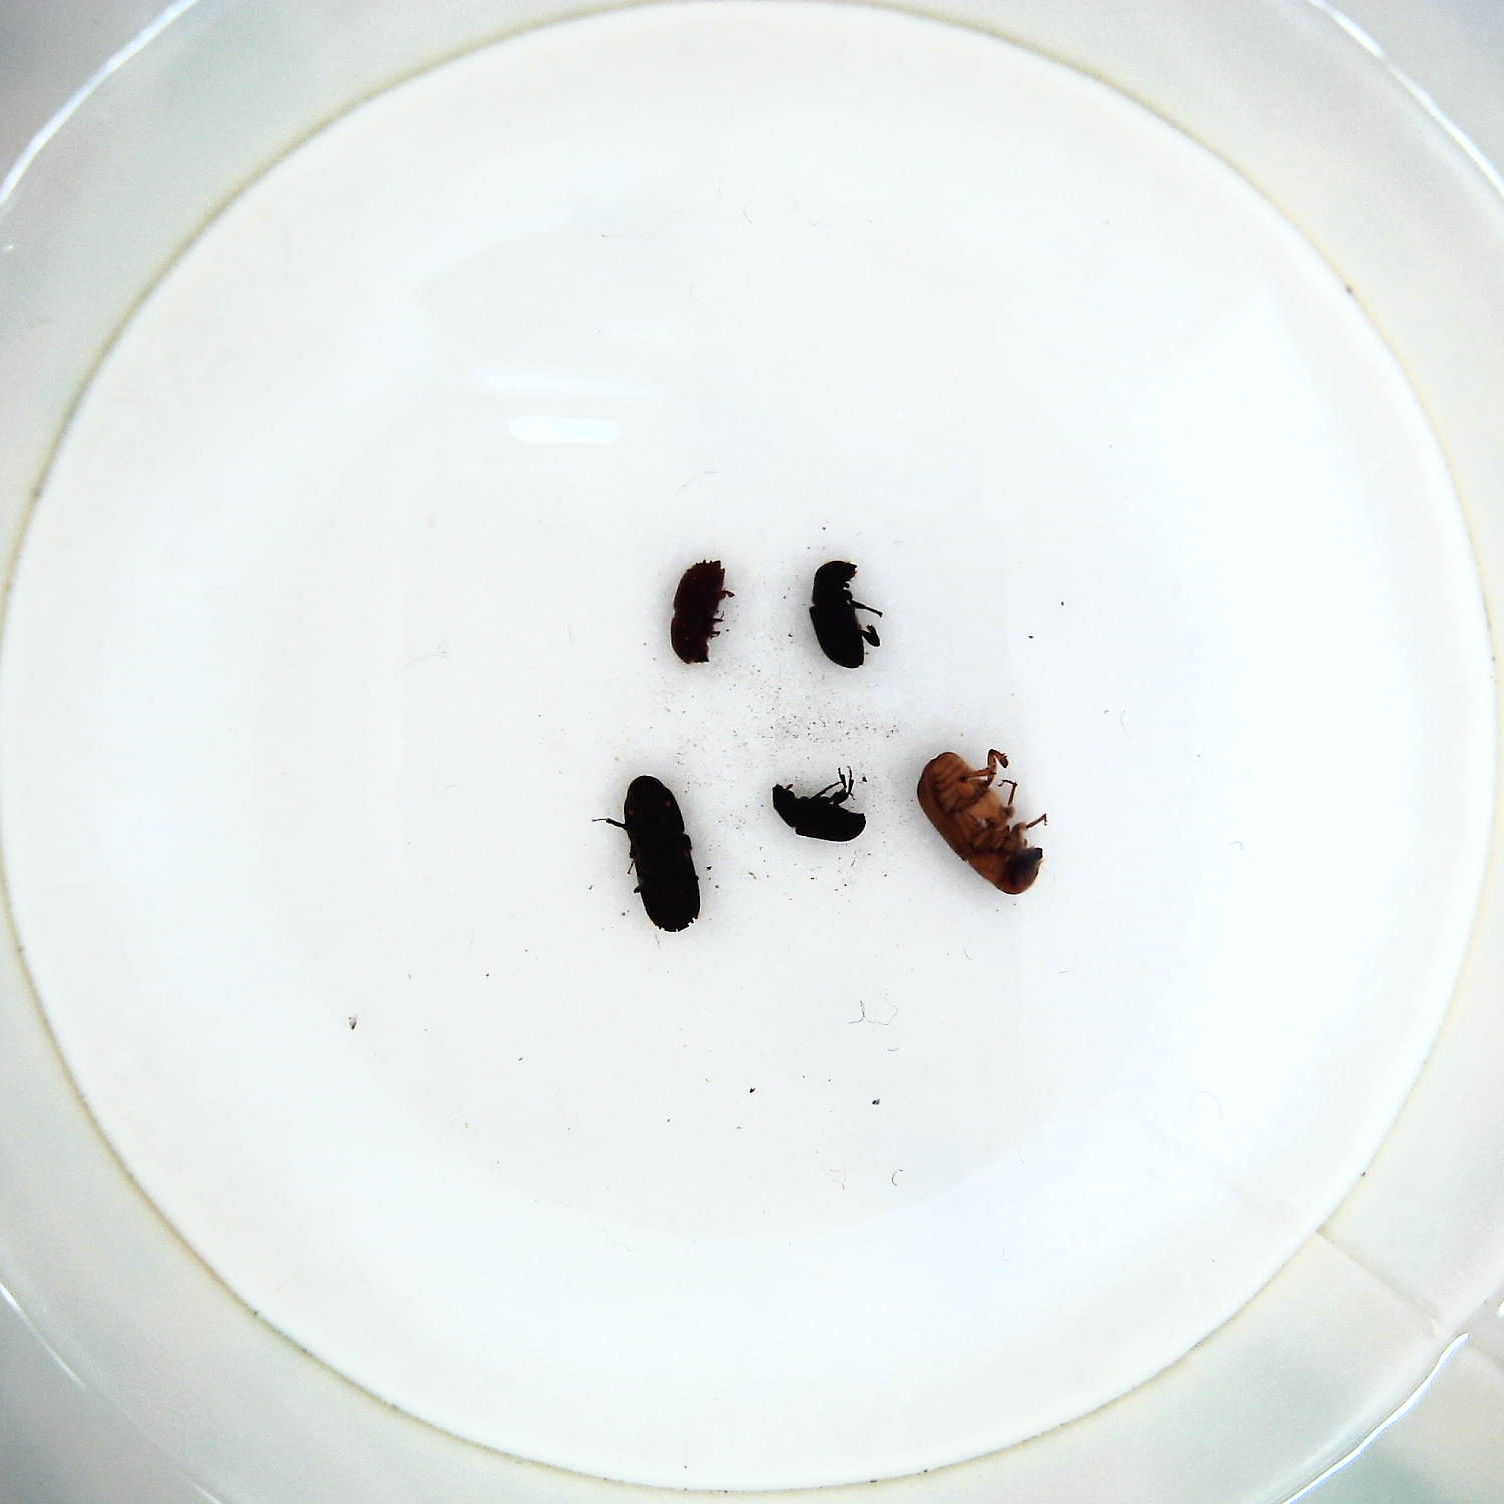Boerner: (602, 764, 705, 939)
Leconte: (915, 744, 1045, 904)
armandi: (808, 554, 892, 680)
coleoptera: (766, 769, 873, 851)
linnaeus: (668, 556, 740, 668)
